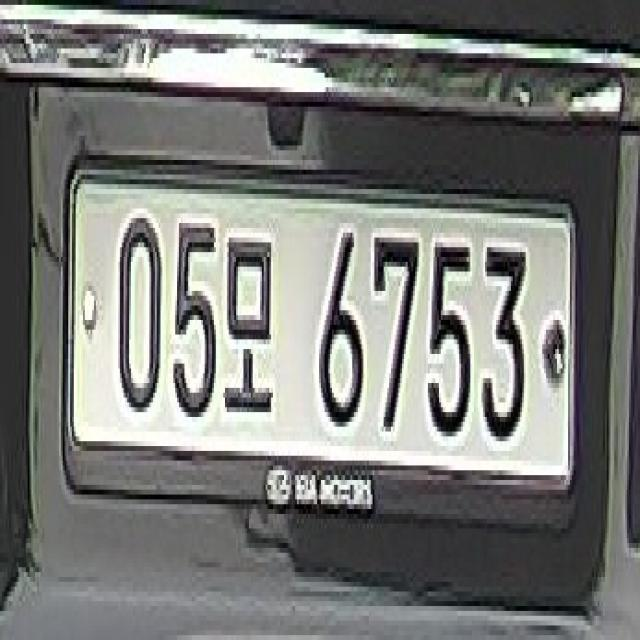0: (112, 212, 168, 430)
3: (478, 233, 533, 444)
5: (176, 220, 220, 430), (432, 233, 475, 444)
6: (306, 228, 368, 440)
7: (372, 228, 428, 441)
license_plate: (75, 182, 570, 484)
mo: (224, 225, 282, 430)
